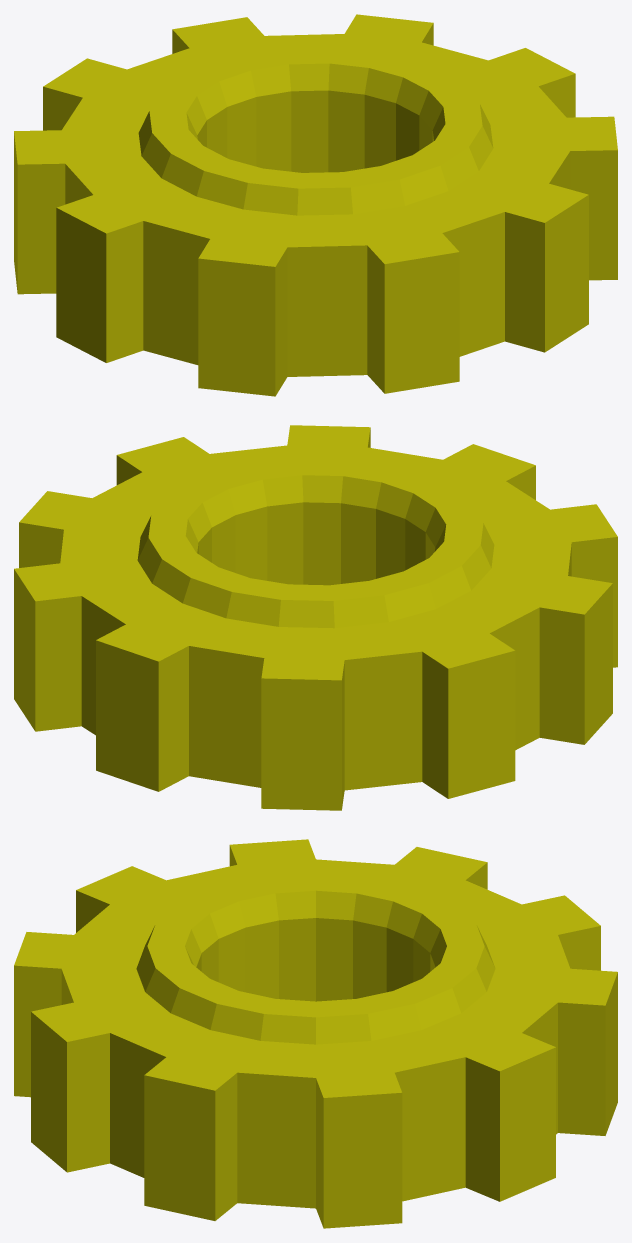
File: gear1 (1).fbx
3 renders of one model, top to bottom at view 1: azimuth 30°, elevation 25°; view 2: azimuth 150°, elevation 25°; view 3: azimuth 270°, elevation 25°, orthographic.
Parts seen in each view (by area): view 1: pCylinder1; view 2: pCylinder1; view 3: pCylinder1.
Boxes of the visible parts, x1,y1,x2,y2 form: pCylinder1: (14, 14, 617, 396); pCylinder1: (14, 425, 617, 810); pCylinder1: (14, 839, 617, 1228).
Bounding box in the file's own units: 5.66 × 1.56 × 5.58.
